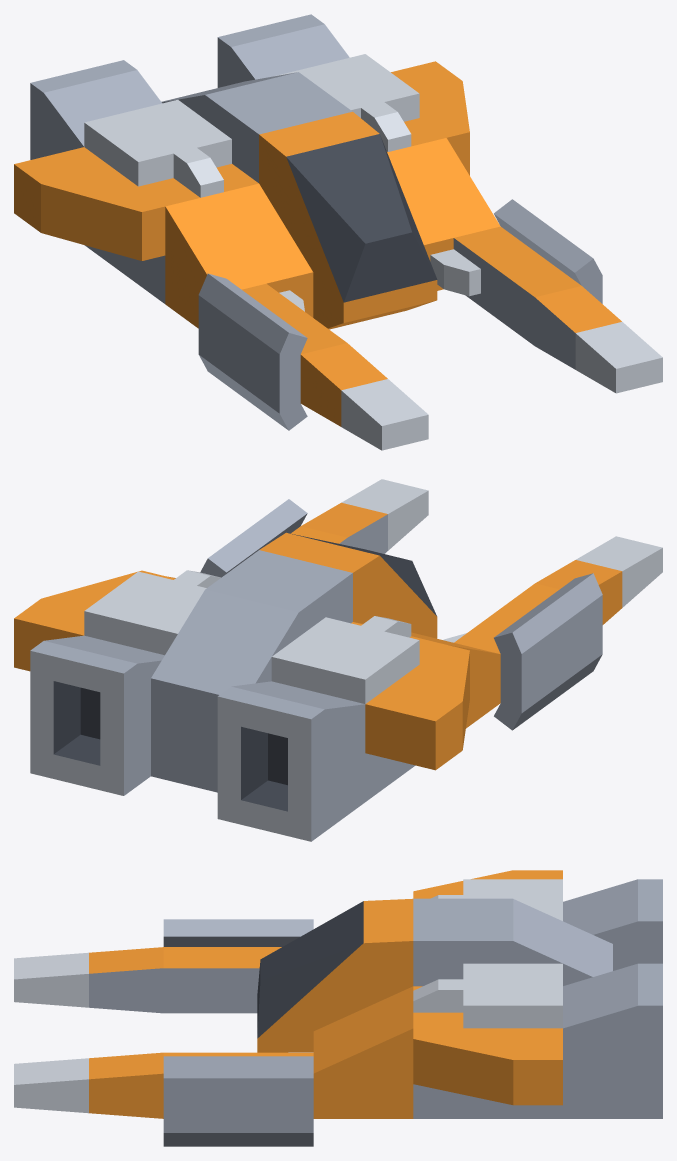
File: ship.obj
3 views of the same model, one above another, from view 1: azimuth 30°, elevation 25°; view 2: azimuth 150°, elevation 25°; view 3: azimuth 270°, elevation 25° (orthographic). The views are drawn at different scales.
Visible parts, largest first — view 1: mergedBlocks; view 2: mergedBlocks; view 3: mergedBlocks.
Part boxes in pixels (<box>): mergedBlocks: <box>14,14,662,450</box>; mergedBlocks: <box>14,479,662,841</box>; mergedBlocks: <box>14,870,662,1146</box>.
Size of the model in its own units: 1.8 by 0.7 by 2.6.
